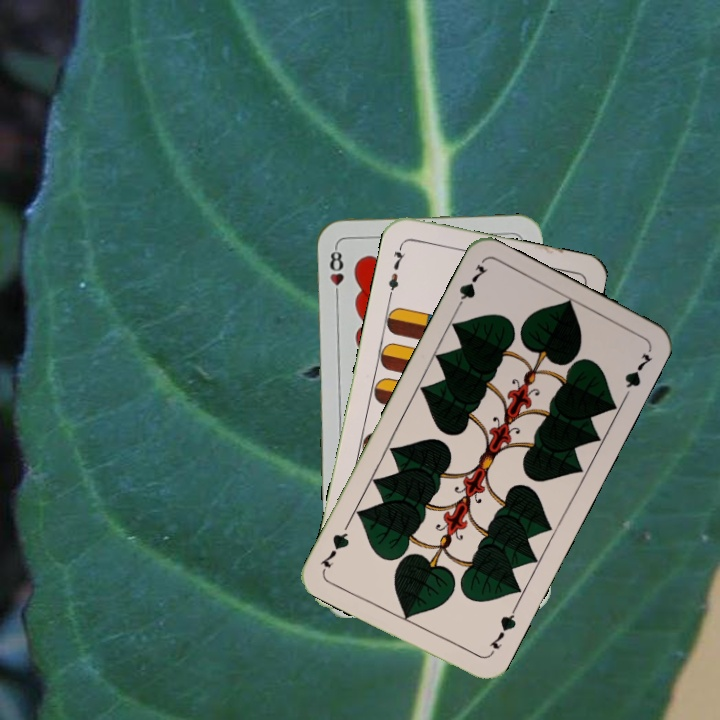E7: (384, 240, 408, 299)
G7: (451, 260, 489, 314), (485, 604, 519, 658)
H8: (326, 243, 346, 302)
